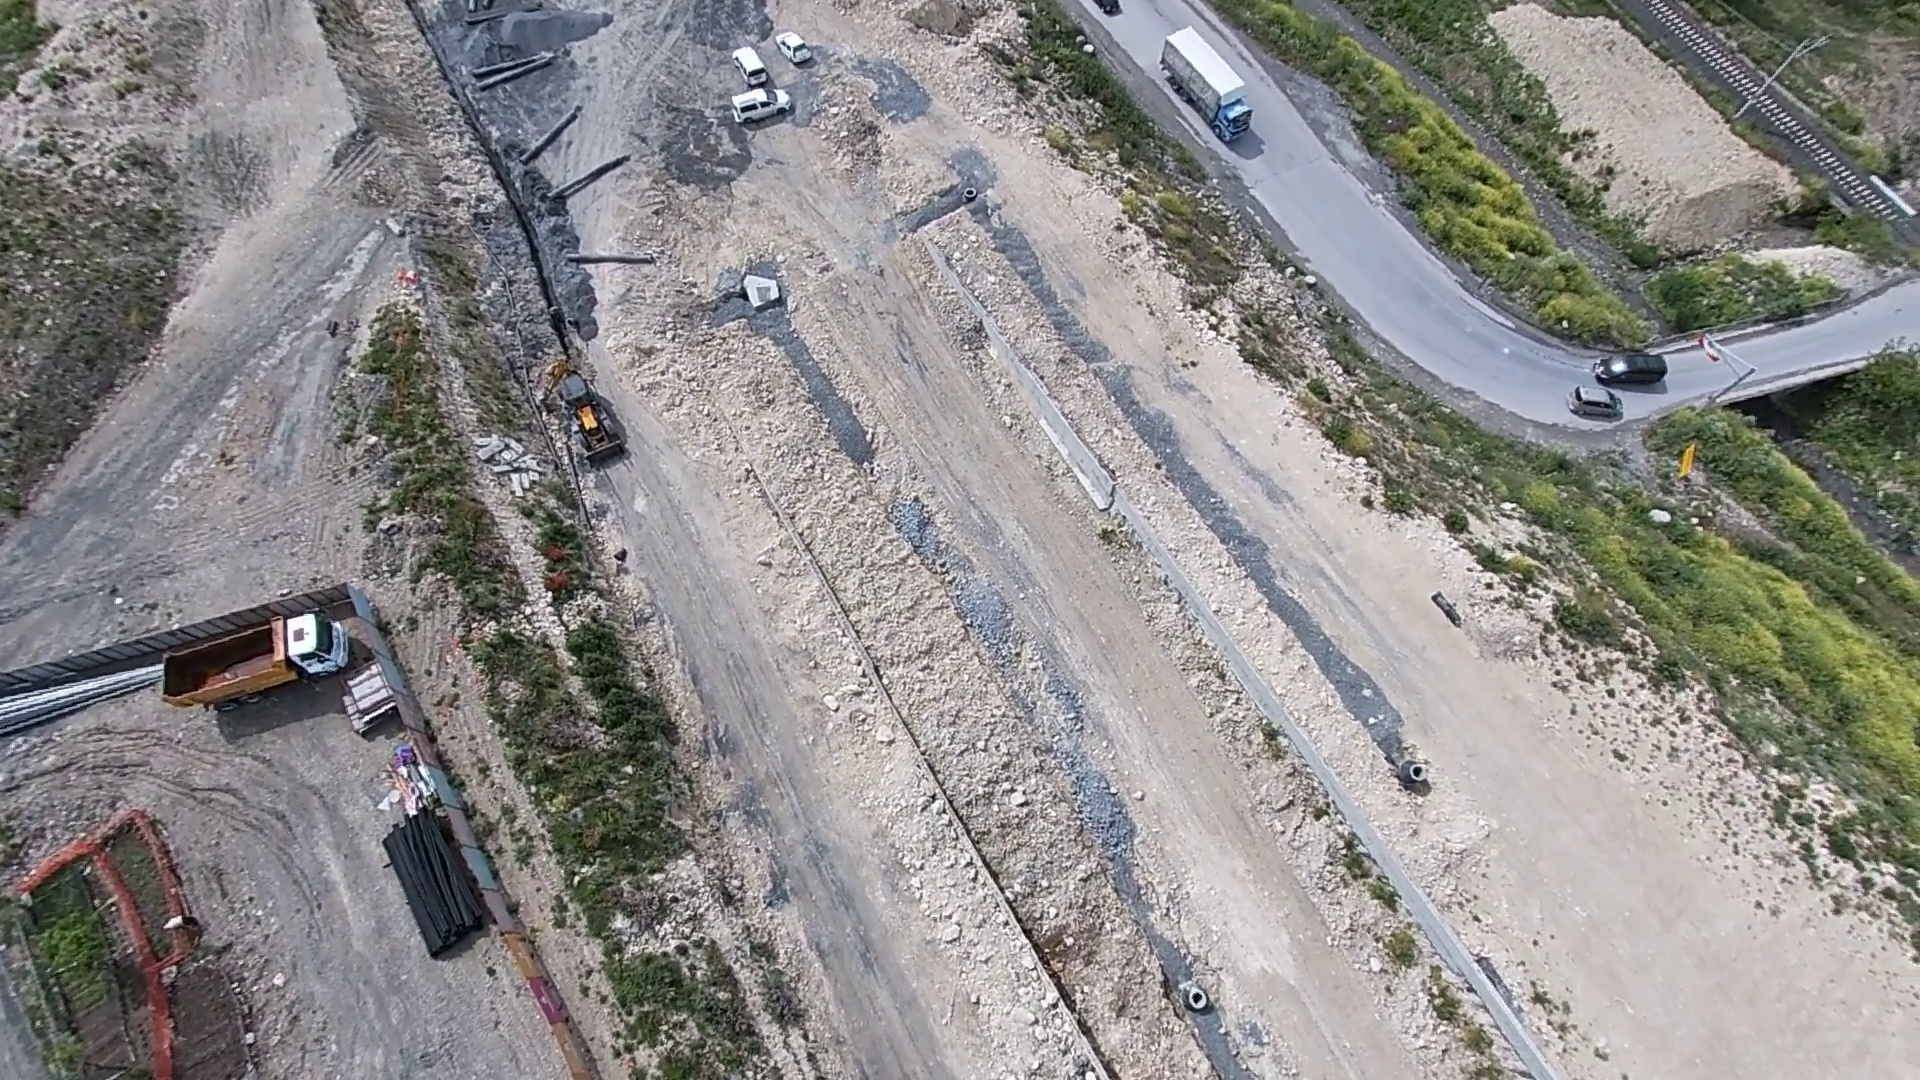arac: (154, 597, 345, 717), (1153, 24, 1261, 156), (537, 347, 626, 469), (731, 76, 800, 129), (1590, 349, 1673, 386), (1563, 382, 1627, 421), (729, 40, 773, 96), (773, 29, 815, 70)
